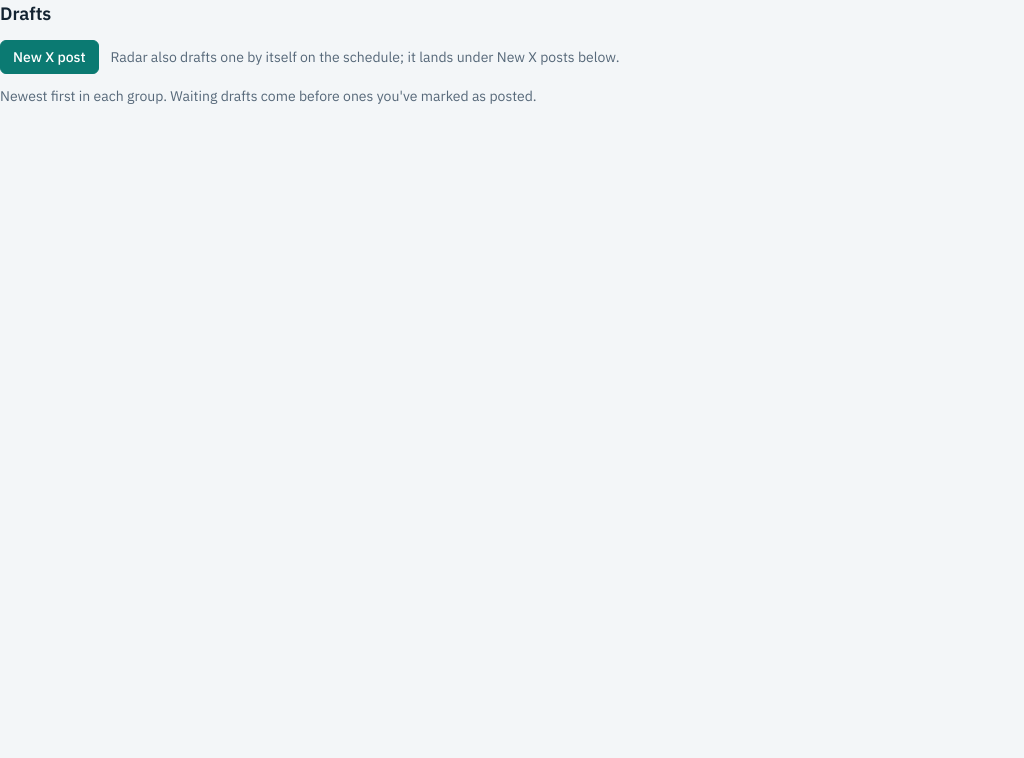
Test: a new X post is drafted from a suggested topic, and the draft shows its image idea, alt text and links
Click the button "New X post" at (49, 57), box [0,40,98,74]
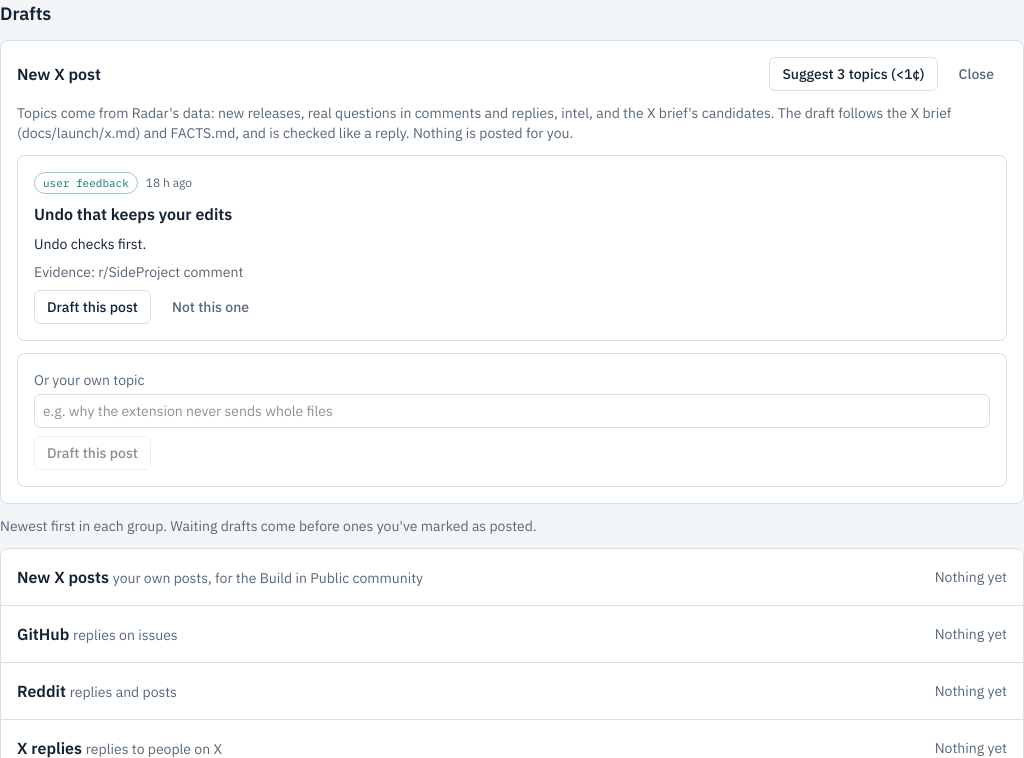
Result: the heading "Undo that keeps your edits" is shown at [34,204,232,224]
Result: the text "user feedback" is shown at [34,172,138,194]
Click the button "Draft this post" below "Evidence:" at (92, 307), box [34,290,151,324]
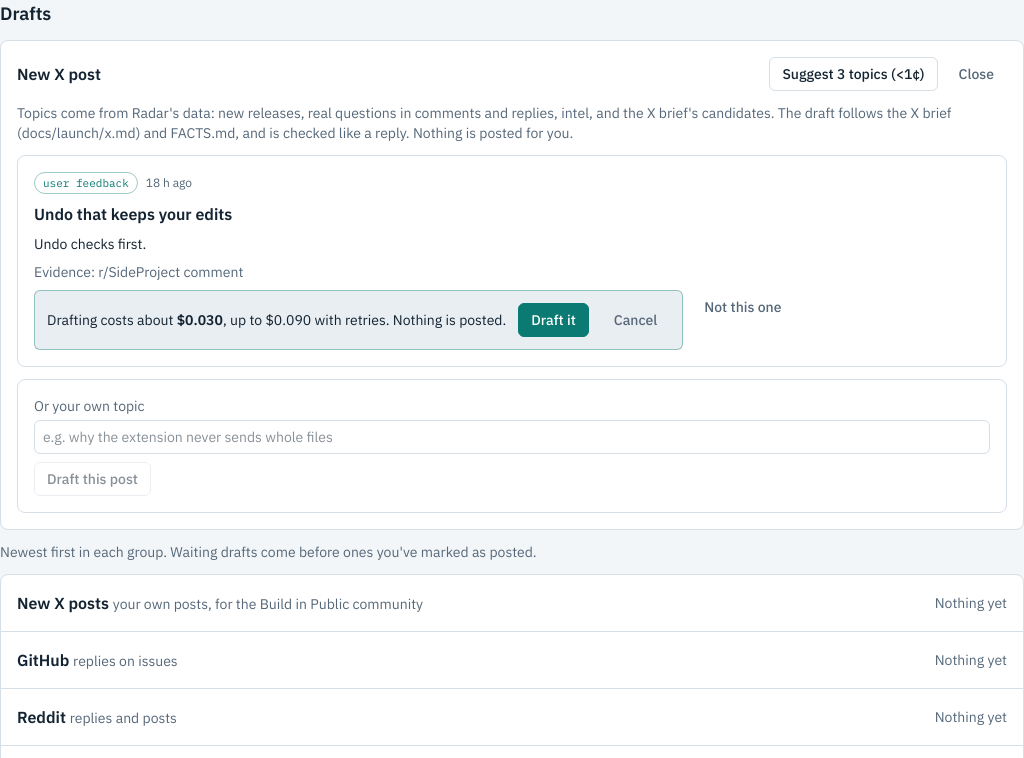
Click the button "Draft it" at (554, 320), box [518,303,589,337]
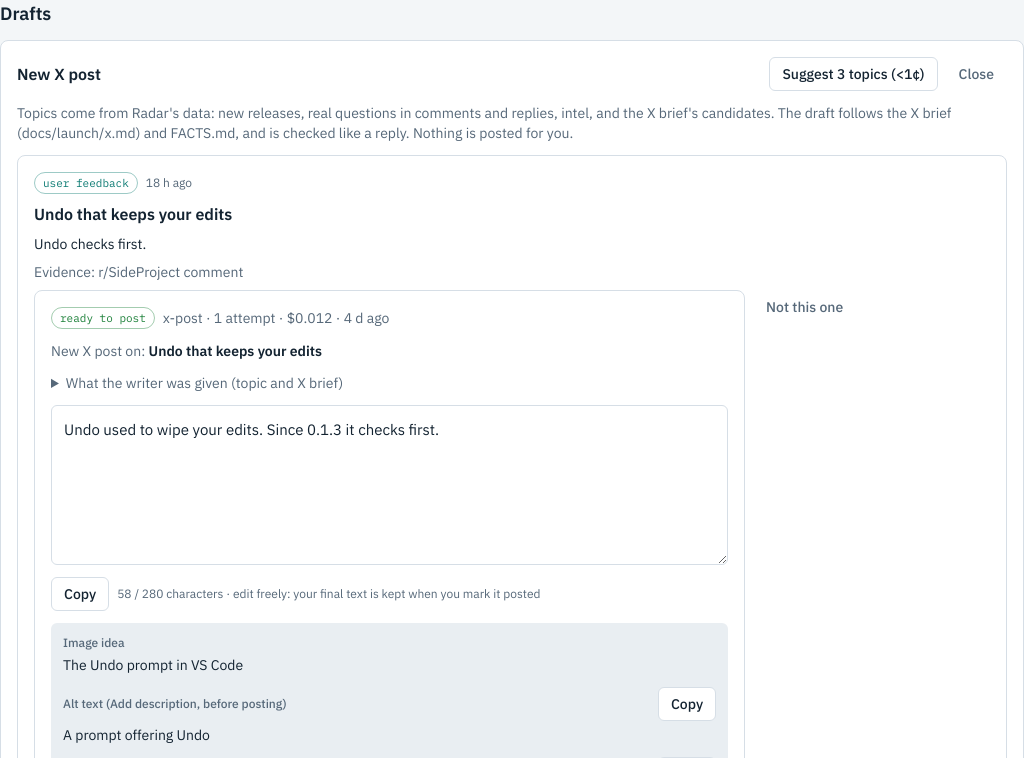
Result: the text "The Undo prompt in VS Code" is shown at [63,656,243,674]
Result: the text "A prompt offering Undo" is shown at [63,726,210,744]
Result: the text "/ 280 characters" is shown at [117,586,540,602]
